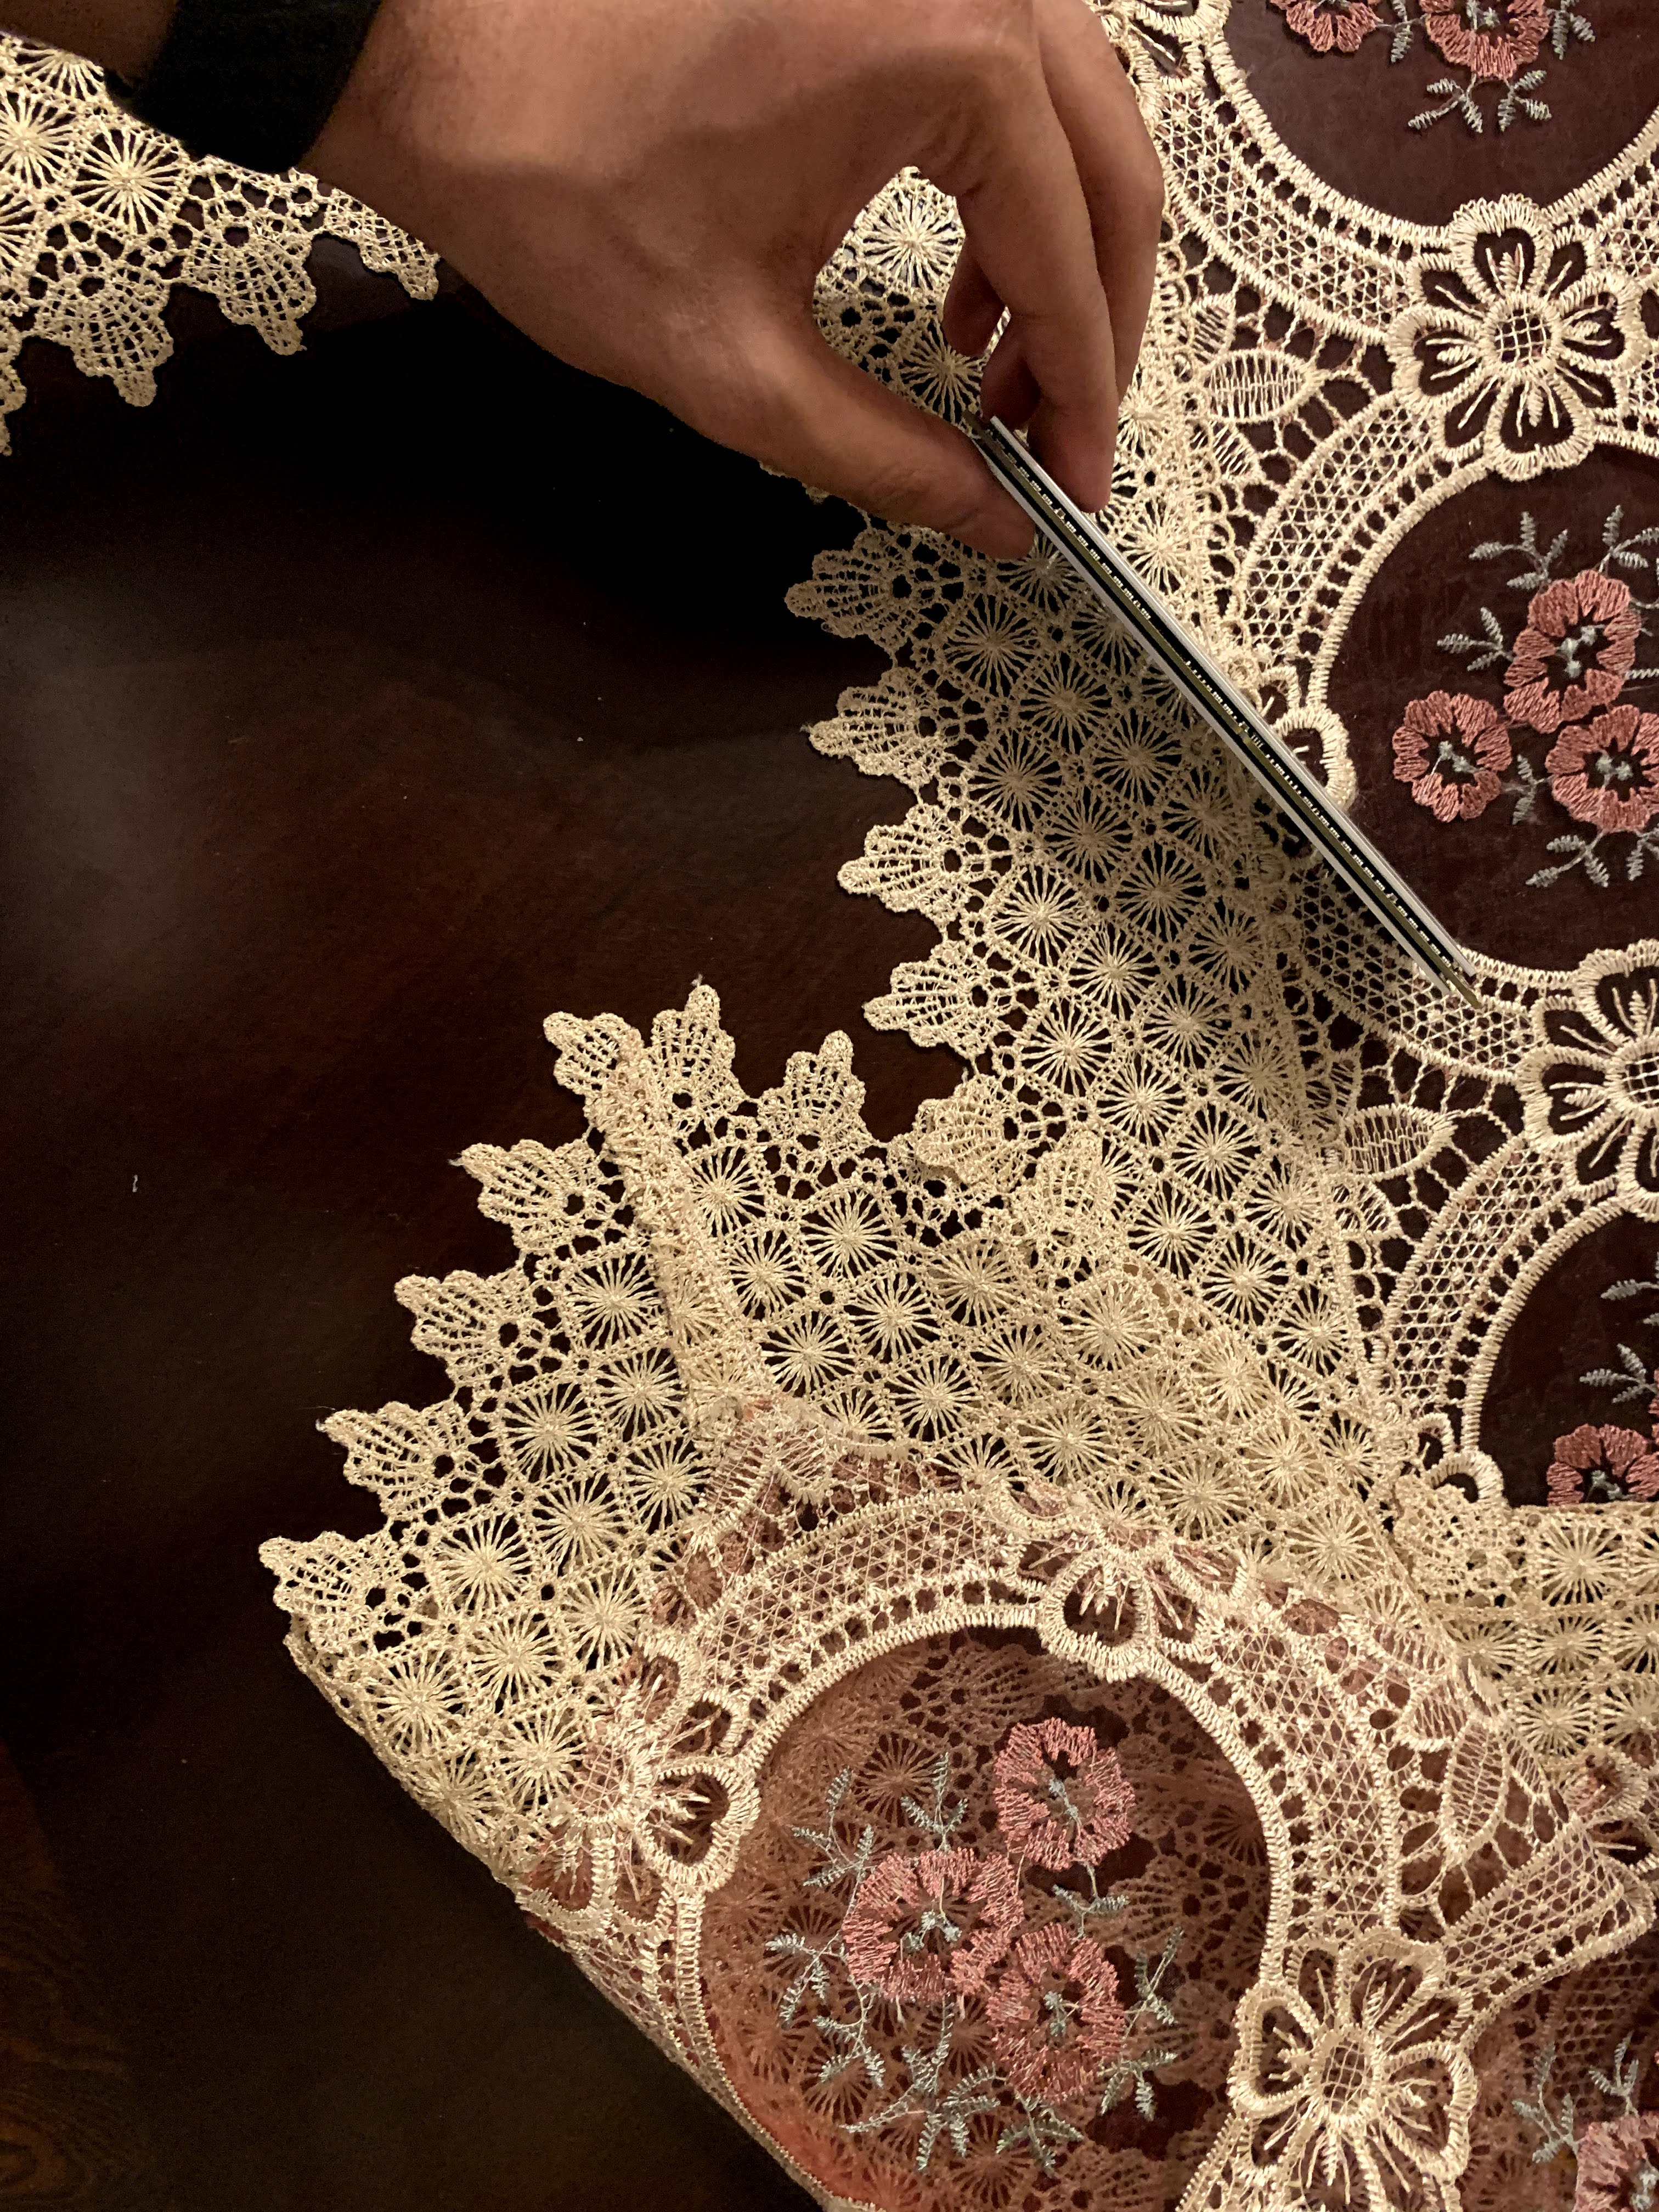Space-debris-medium: (894, 397, 1558, 956)
